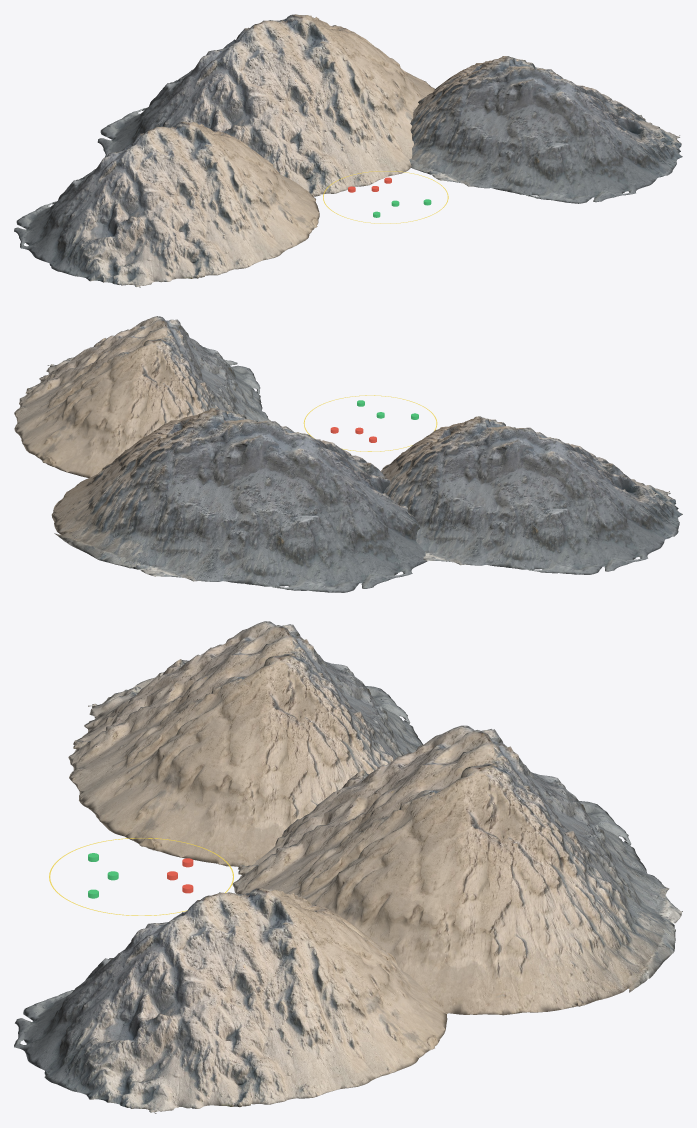
File: arena_desert.glb
3 renders of one model, top to bottom at view 1: azimuth 30°, elevation 25°; view 2: azimuth 150°, elevation 25°; view 3: azimuth 270°, elevation 25°, orthographic. The views are drawn at different scales.
Parts seen in each view (by area): view 1: 3DModel_LowPoly (×3); view 2: 3DModel_LowPoly (×3); view 3: 3DModel_LowPoly (×3).
Part boxes in pixels (bbox=[...]): 3DModel_LowPoly (×3): bbox=[14, 14, 682, 287]; 3DModel_LowPoly (×3): bbox=[14, 316, 682, 592]; 3DModel_LowPoly (×3): bbox=[14, 621, 682, 1113].
Bounding box in the file's own units: 16.87 × 2.77 × 10.84.
Materials: 8 (1 with a texture image).
